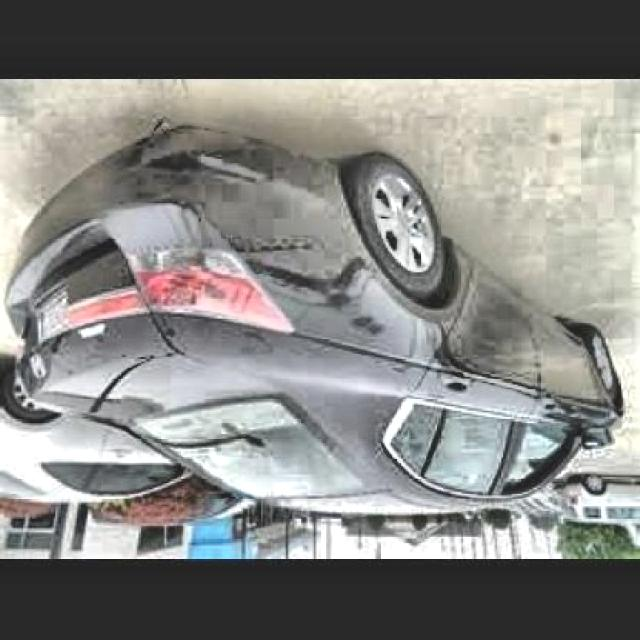black: (41, 214, 606, 516)
